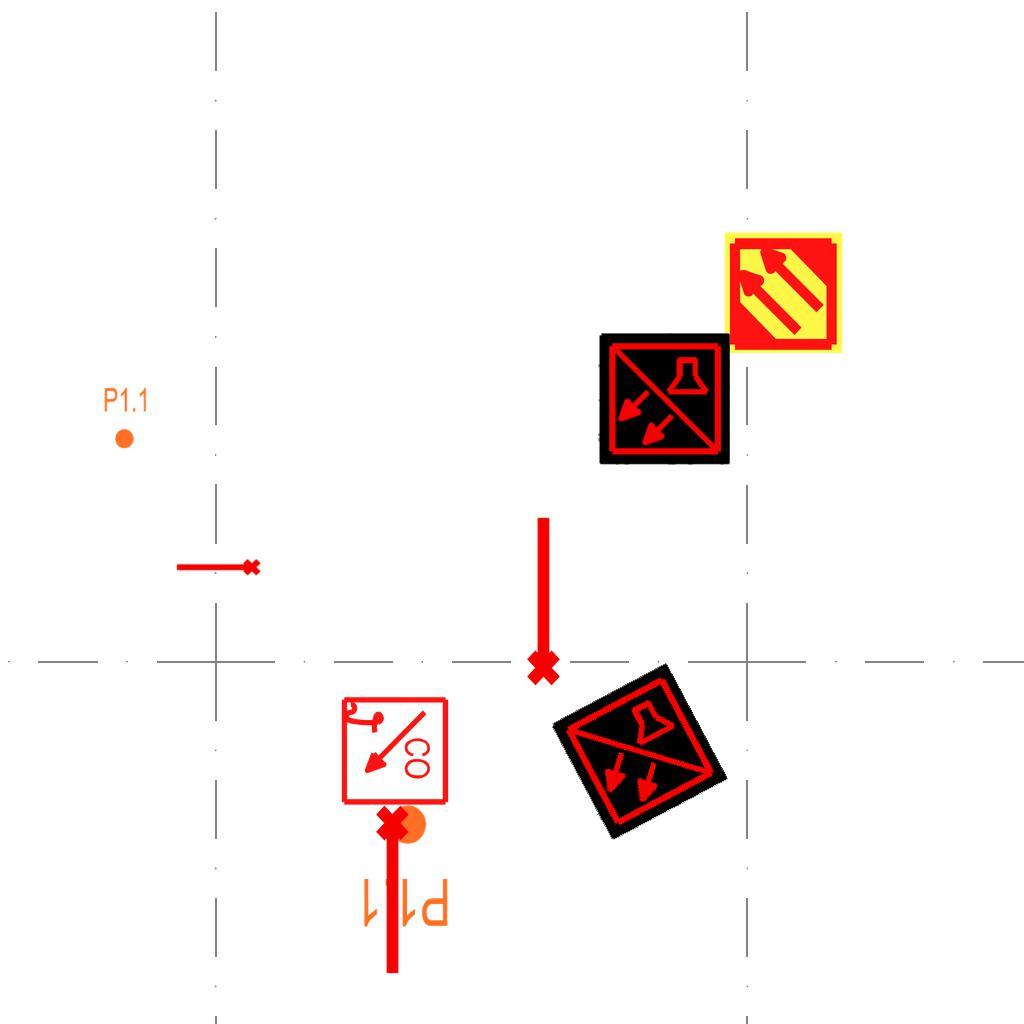ASR_Ansaugoeffnung: (518, 512, 564, 688), (372, 803, 418, 979), (174, 557, 262, 580)
ASR_Ansaugrauchmelder: (721, 230, 846, 355)
Downlight_LED_Einbauleuchten_Flur: (358, 802, 451, 930), (103, 386, 149, 450)
OKW_Multisensormelder_(Kombination_optischer_Rauch-Kahlenmonoxid_Waerme-Melder): (549, 662, 729, 842), (598, 333, 730, 465)
ROA_Rauchmelder_optisch_mit_Signalgeber_(Sockelsirene): (337, 695, 450, 808)
